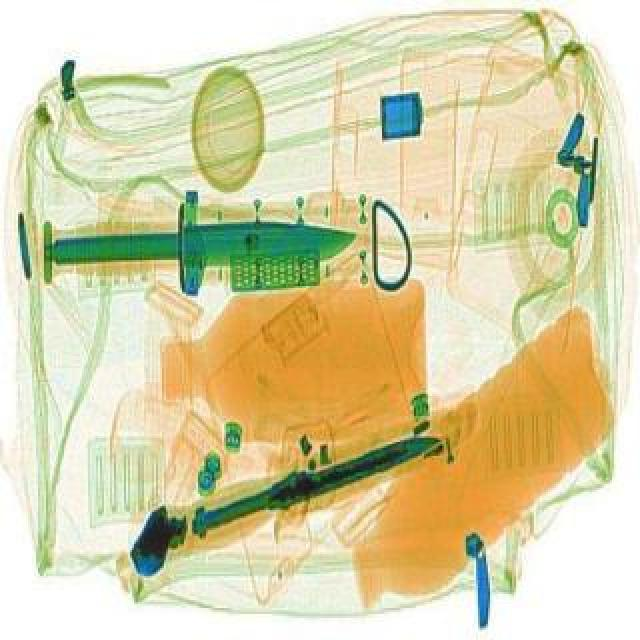knife: (42, 192, 358, 302), (184, 432, 448, 548)
